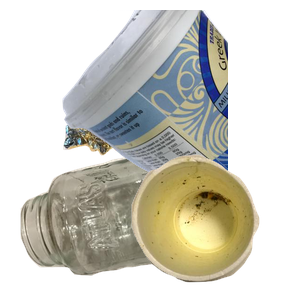glass: (18, 143, 227, 300)
metal: (61, 54, 225, 202)
plastic: (60, 10, 300, 190)
trash: (129, 152, 300, 300)
